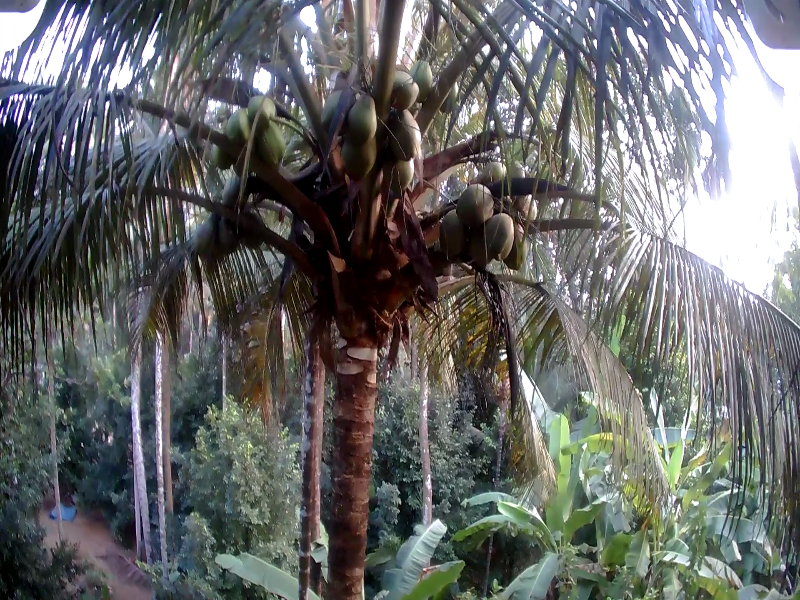coconut: (325, 129, 371, 170), (381, 146, 413, 195), (188, 211, 223, 248), (485, 211, 515, 254), (386, 111, 419, 150), (387, 75, 421, 111), (408, 60, 441, 95), (241, 88, 273, 124), (344, 98, 373, 137), (216, 167, 245, 206), (458, 186, 493, 218), (443, 213, 475, 245), (261, 131, 281, 167), (229, 106, 250, 139), (208, 135, 225, 174), (515, 187, 535, 219), (501, 157, 521, 186), (481, 161, 502, 187), (442, 79, 455, 109)
